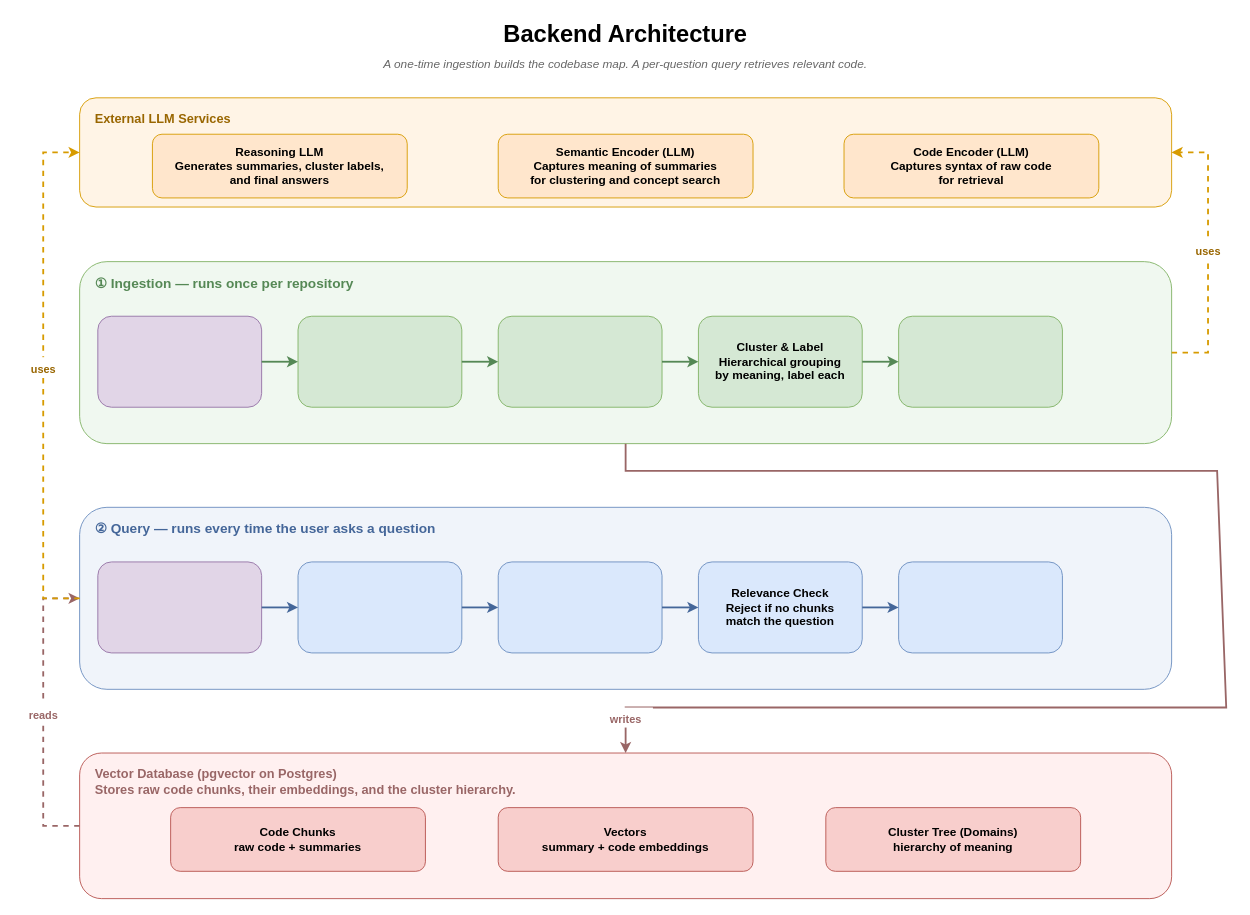
Image size: 1250x915. Some labels were removed from this diagram. Each missing label, with the centre of its shape:
"Embed Question Encode question with both encoders" goes at point 379,607.
"Generate Answer Synthesize grounded answer + sources" goes at point 980,607.
"GitHub Repo (URL submitted by user)" goes at point 179,361.
"Persist Store chunks, vectors, and cluster tree" goes at point 980,361.
"Search & Merge Find relevant chunks via similarity, merge (RRF)" goes at point 579,607.
"Summarize & Embed Generate summary, embed summary + code" goes at point 579,361.
"User Question (natural language)" goes at point 179,607.
"Walk & Chunk Split repo into function-level pieces" goes at point 379,361.
